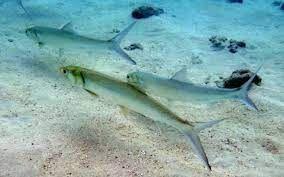Tenpounder: (59, 66, 227, 177), (120, 64, 268, 118), (23, 15, 145, 65)
